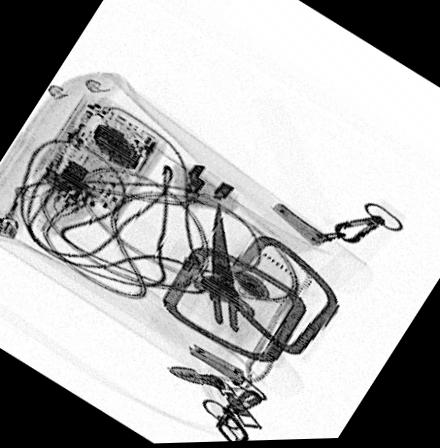Scissors: (192, 197, 248, 339)
